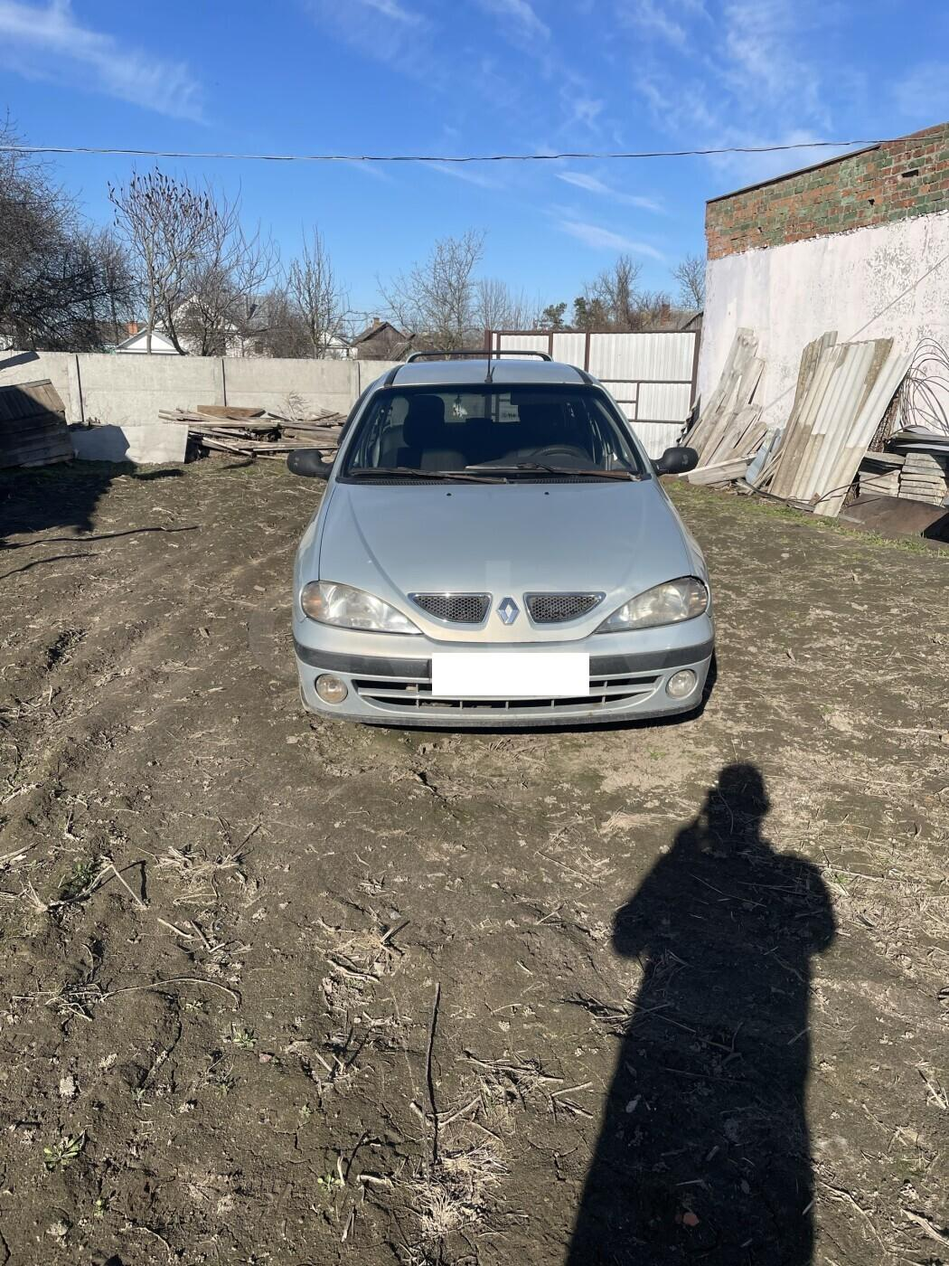Megane_1999-2003: (275, 356, 728, 752)
